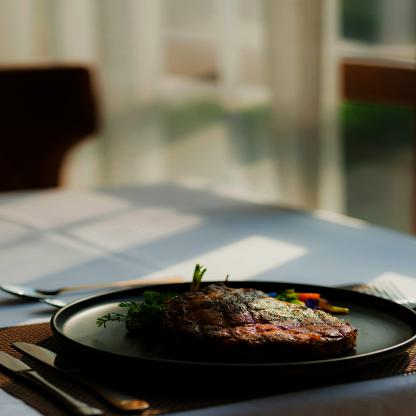Carne: (163, 278, 354, 354)
